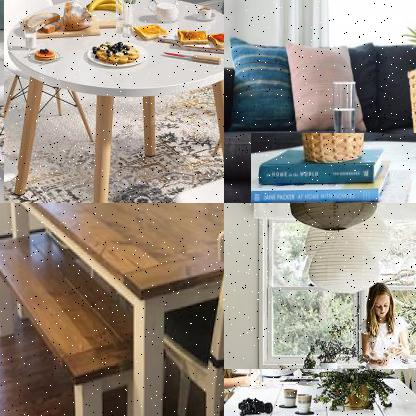table: (0, 203, 223, 415), (3, 0, 223, 202), (250, 133, 415, 202), (224, 369, 415, 415)
